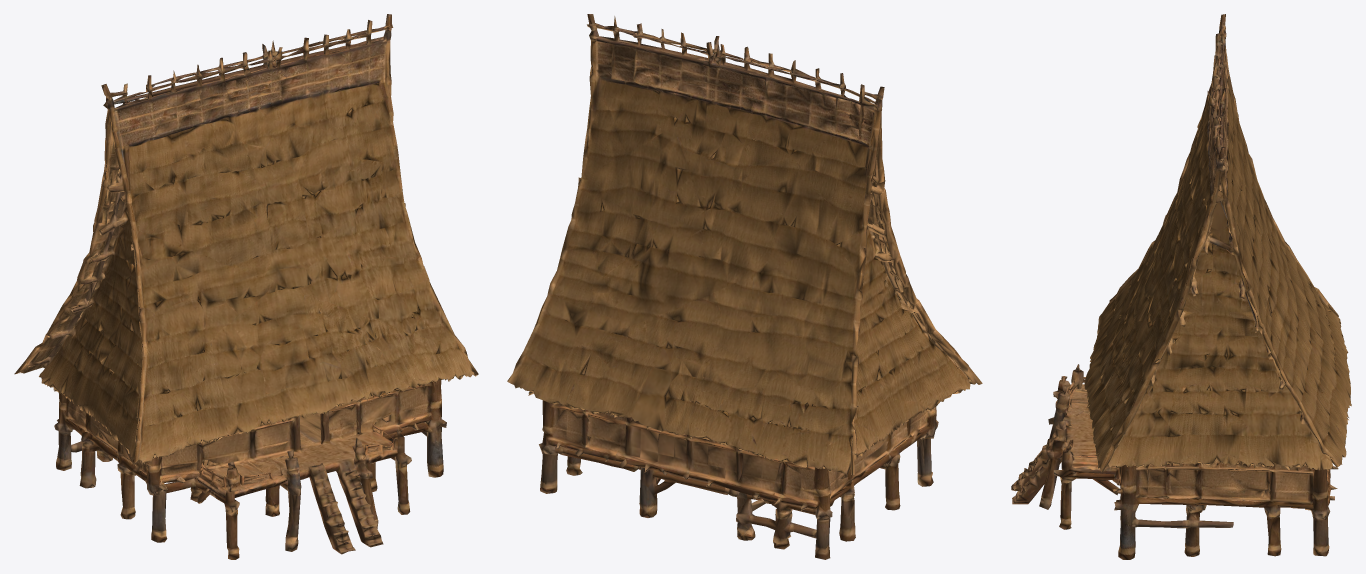
The model's file is nha-rong.glb.
The picture shows the model from 3 angles, left to right: view 1: azimuth 30°, elevation 25°; view 2: azimuth 150°, elevation 25°; view 3: azimuth 270°, elevation 25°; orthographic projection. The views are drawn at different scales.
Bounding box in the file's own units: 0.8497 × 0.9991 × 0.7469.
Materials: 1 (1 with a texture image).
